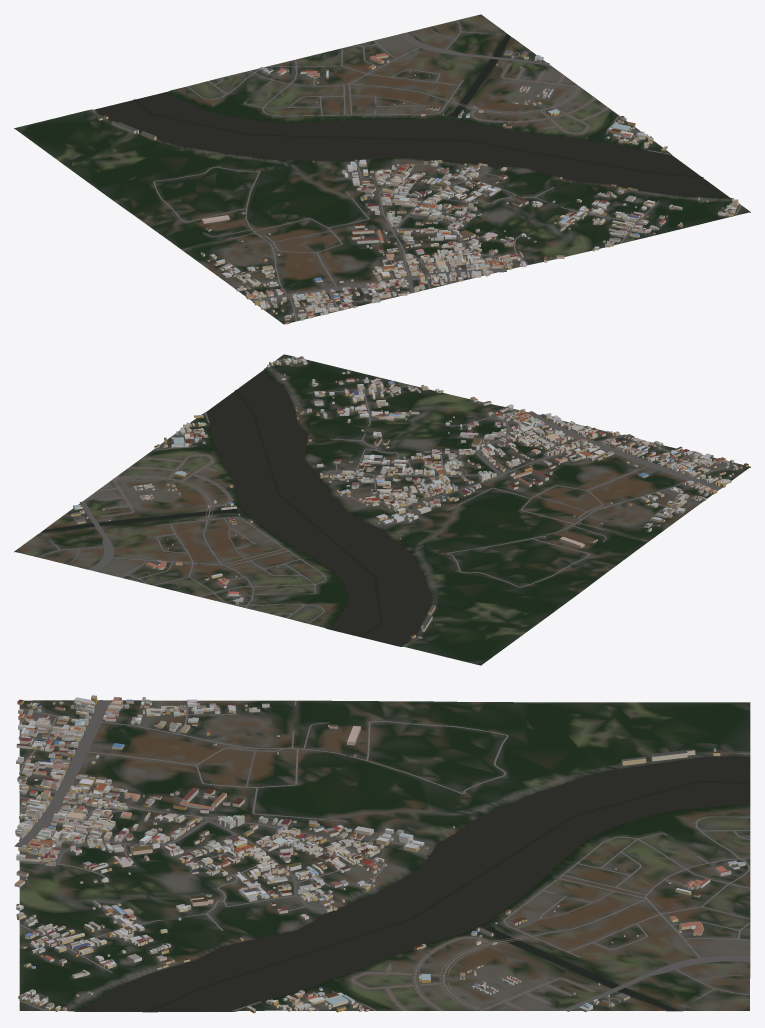
The picture shows the model from 3 angles, top to bottom: view 1: azimuth 30°, elevation 25°; view 2: azimuth 150°, elevation 25°; view 3: azimuth 270°, elevation 25°; orthographic projection. The views are drawn at different scales.
Visible parts, largest first — view 1: ground, water, buildings, roads; view 2: ground, water, buildings, roads; view 3: ground, water, buildings, roads.
Boxes of the visible parts, <box> form: ground: <box>14,14,750,324</box>; water: <box>96,33,727,196</box>; buildings: <box>98,50,739,324</box>; roads: <box>92,20,741,321</box>; ground: <box>14,354,750,665</box>; water: <box>41,371,431,646</box>; buildings: <box>70,356,748,638</box>; roads: <box>38,357,738,646</box>; ground: <box>19,700,750,1012</box>; water: <box>80,756,750,1012</box>; buildings: <box>14,695,745,1013</box>; roads: <box>14,700,750,1011</box>.
Bounding box in the file's own units: 1414 × 26.44 × 1413.
